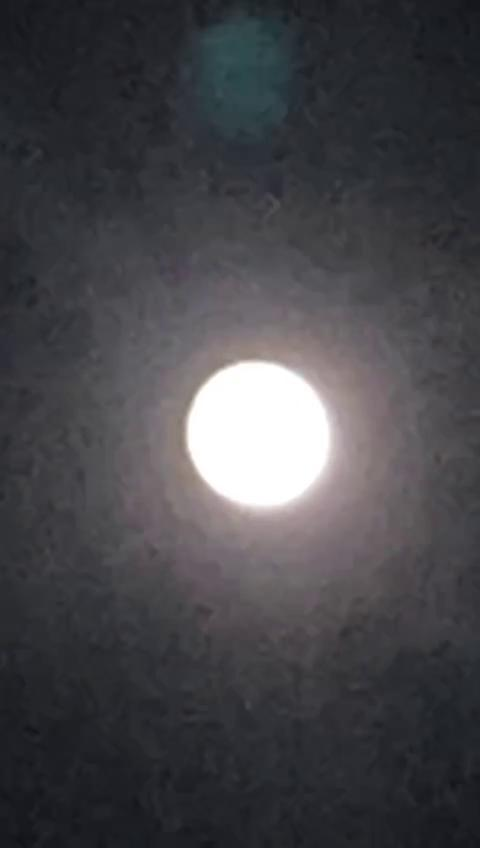moon: (178, 353, 356, 544)
